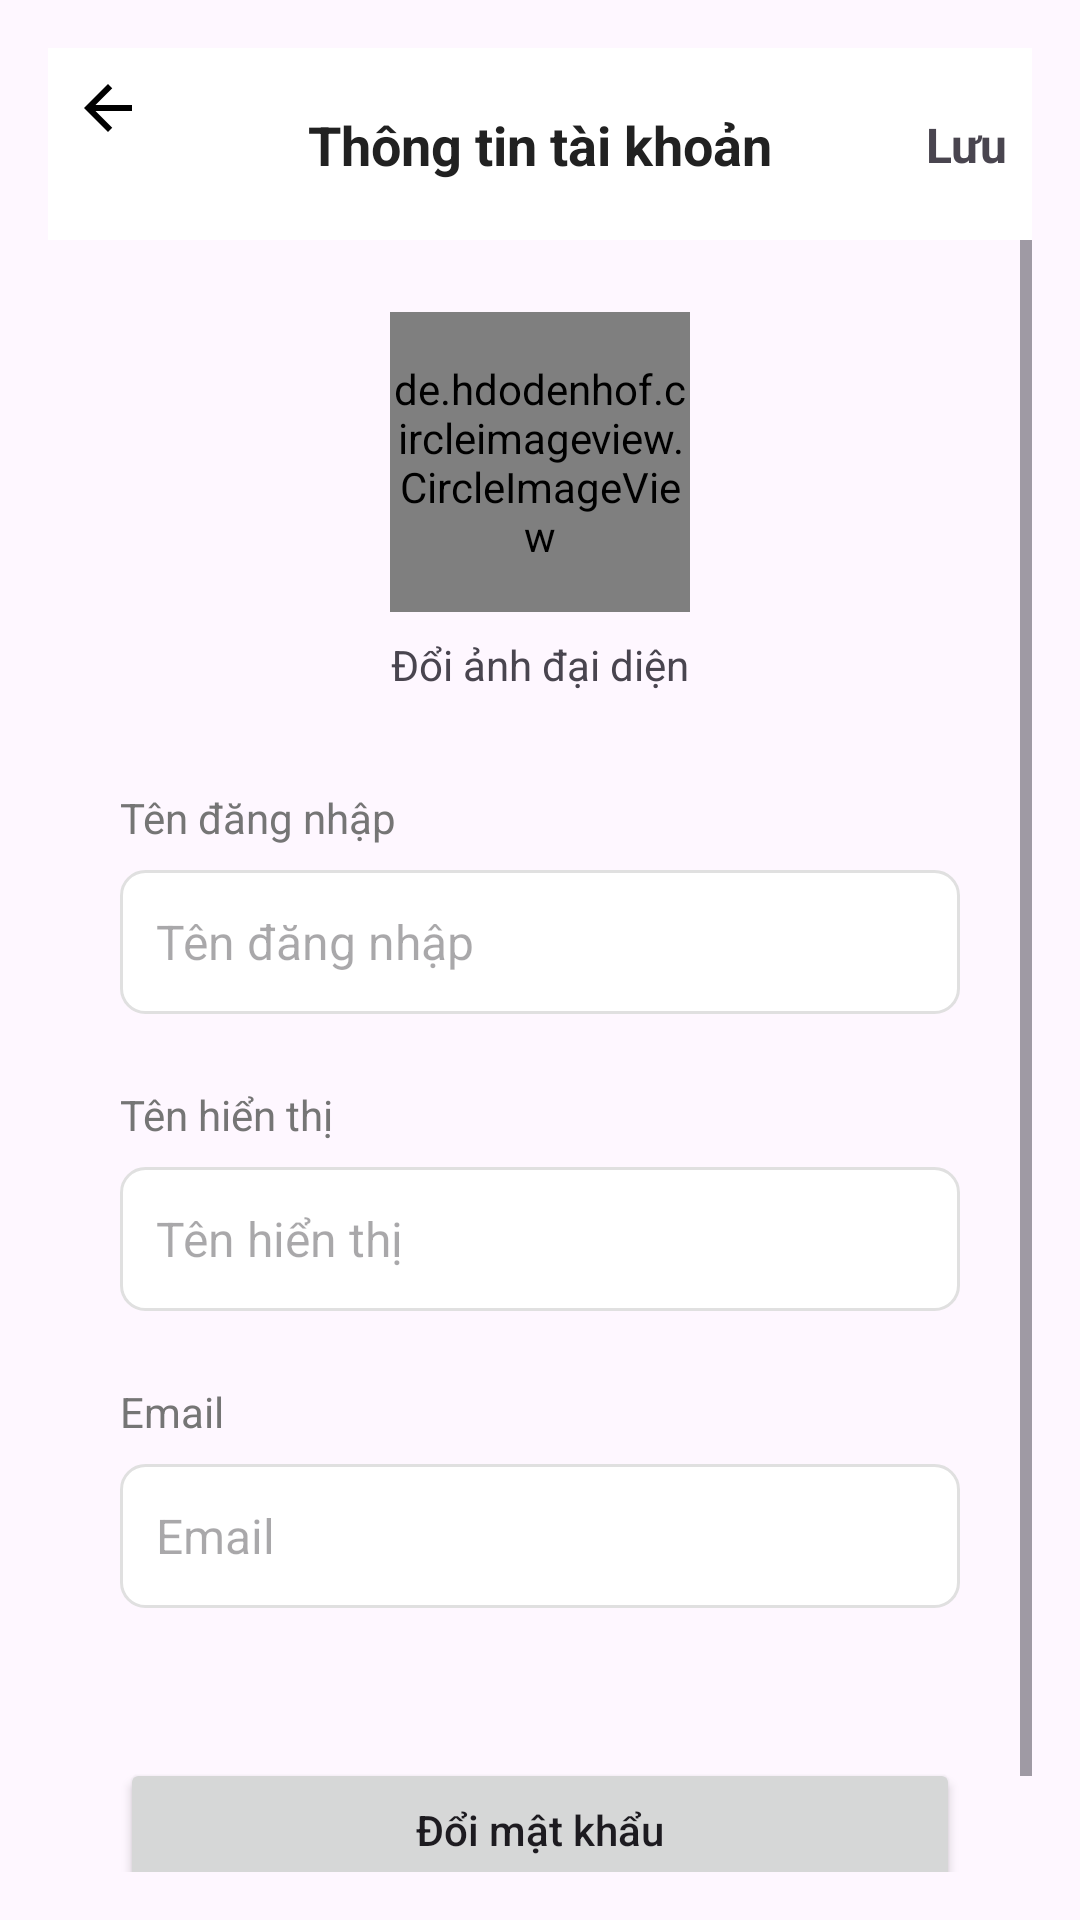

Point at icon controls on the screen. Image size 1080×1920, points as [x,y].
Quay lại: [108,108]
